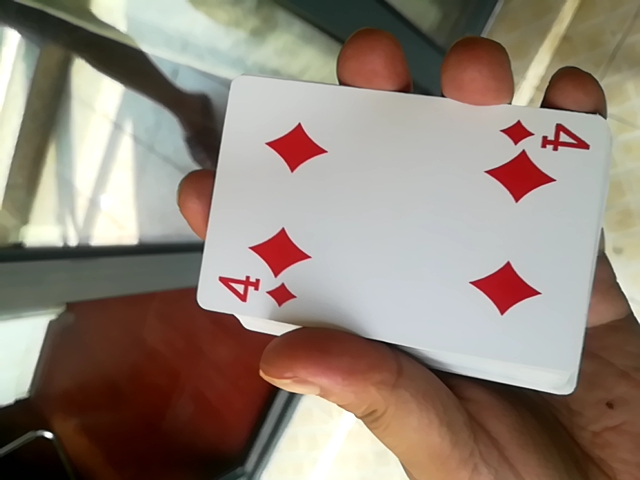fk 4: (176, 79, 622, 381)
